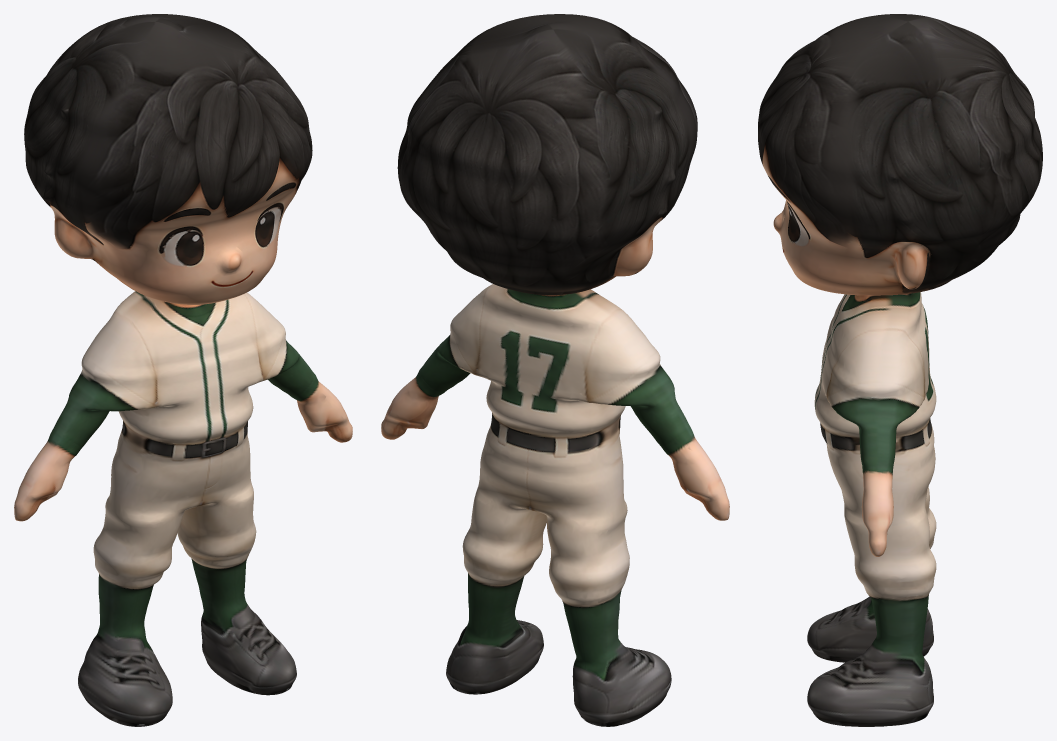
File: player_v5_bare.glb
3 views of the same model, side by side, from view 1: azimuth 30°, elevation 25°; view 2: azimuth 150°, elevation 25°; view 3: azimuth 270°, elevation 25° (orthographic). The views are drawn at different scales.
Parts seen in each view (by area): view 1: player; view 2: player; view 3: player.
Part boxes in pixels (<box>): player: <box>14,14,352,726</box>; player: <box>381,14,729,726</box>; player: <box>758,14,1042,726</box>.
Size of the model in its own units: 0.9038 by 1.69 by 0.6653.
1 material, 1 textured.
